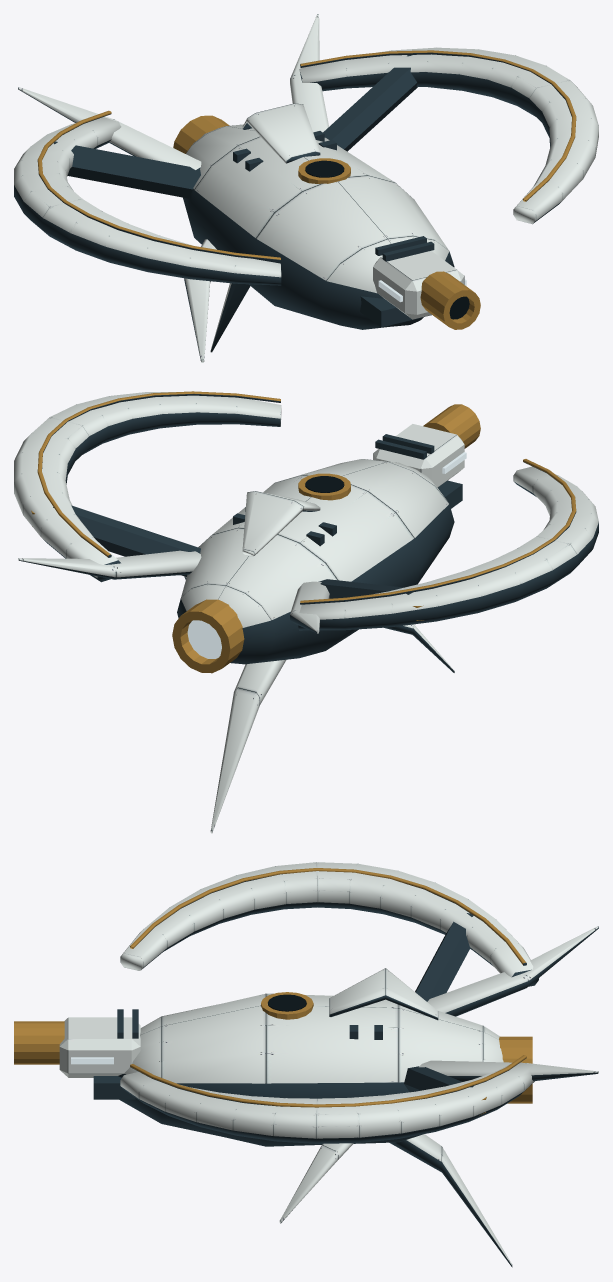
Rendered from pioneer-europa-l09-laser.glb.
The picture shows the model from 3 angles, top to bottom: view 1: azimuth 30°, elevation 25°; view 2: azimuth 150°, elevation 25°; view 3: azimuth 270°, elevation 25°; orthographic projection.
Visible parts, largest first — view 1: Drone; view 2: Drone; view 3: Drone.
Part boxes in pixels (x1=…): Drone: x1=14, y1=14, x2=598, y2=362; Drone: x1=14, y1=391, x2=598, y2=833; Drone: x1=14, y1=862, x2=598, y2=1267.
Size of the model in its own units: 1.75 by 0.9071 by 1.66.
3 materials, 3 textured.
